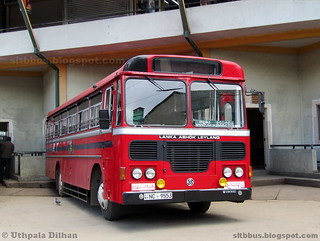bus: (46, 54, 252, 220)
